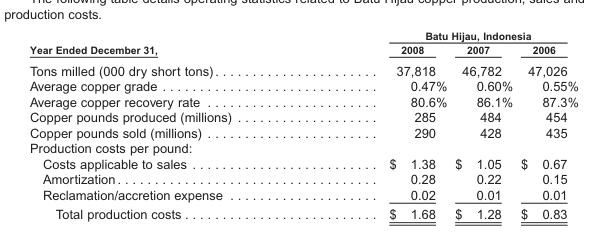table: (28, 28, 578, 220)
table column: (28, 28, 310, 220), (310, 28, 450, 220), (450, 28, 516, 220), (516, 28, 578, 220)
table column header: (28, 28, 578, 58)
table projected row header: (28, 139, 578, 155)
table row: (28, 58, 578, 77), (28, 41, 578, 58), (28, 186, 578, 203), (28, 203, 578, 220), (28, 77, 578, 93), (28, 108, 578, 124), (28, 139, 578, 155), (28, 170, 578, 186), (28, 93, 578, 108), (28, 124, 578, 139), (28, 155, 578, 170), (28, 28, 578, 41)
table spanning cell: (28, 28, 310, 58), (310, 28, 578, 41)
